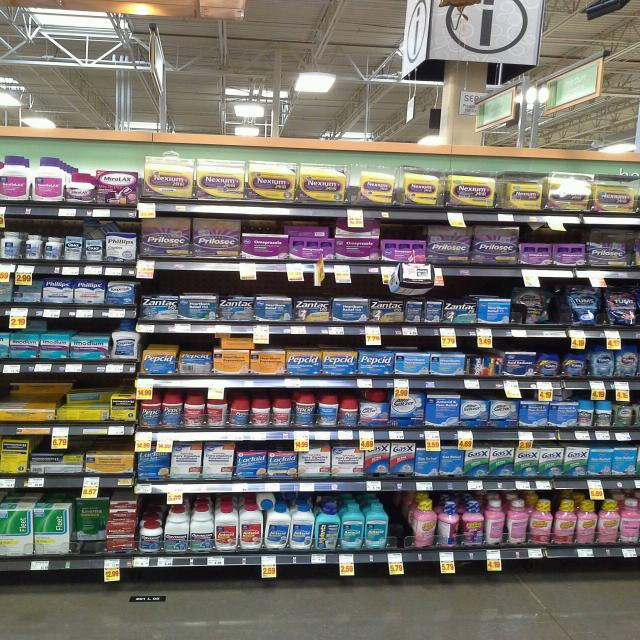unorganised: (73, 495, 110, 543), (517, 286, 560, 325), (8, 381, 73, 398), (216, 333, 259, 352), (281, 221, 329, 238), (64, 389, 114, 403), (88, 222, 126, 240), (255, 492, 277, 512)
